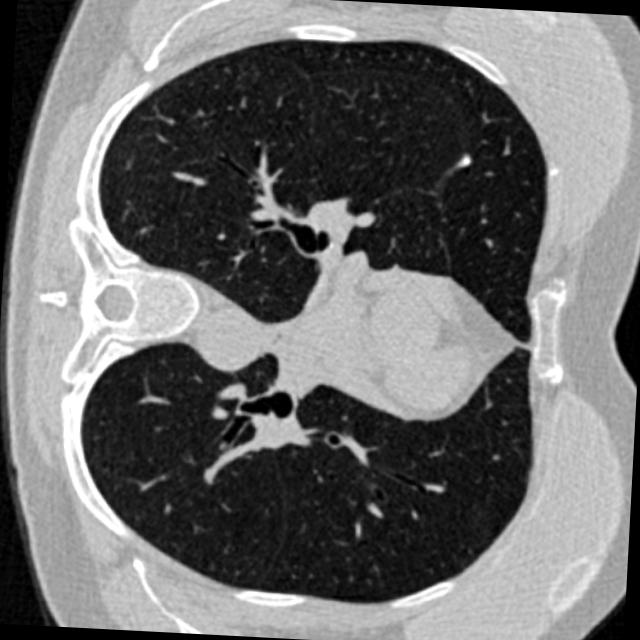nodule: (454, 148, 478, 172)
